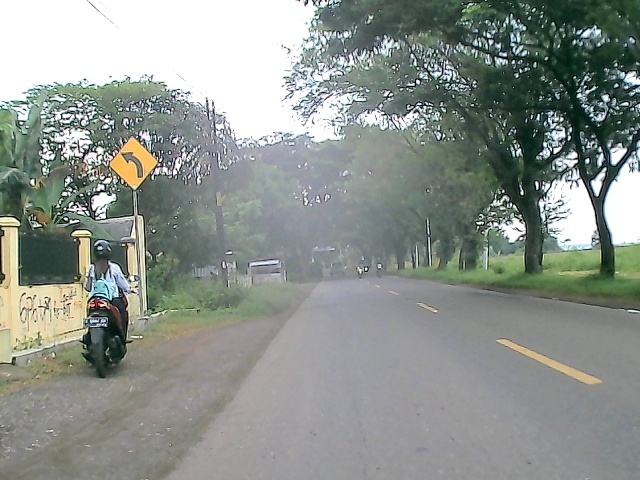Tikungan ke kiri: (106, 134, 161, 192)
